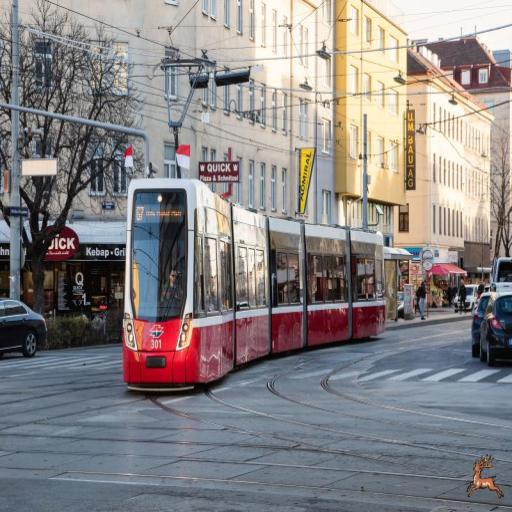Flexity: (122, 174, 388, 398)
